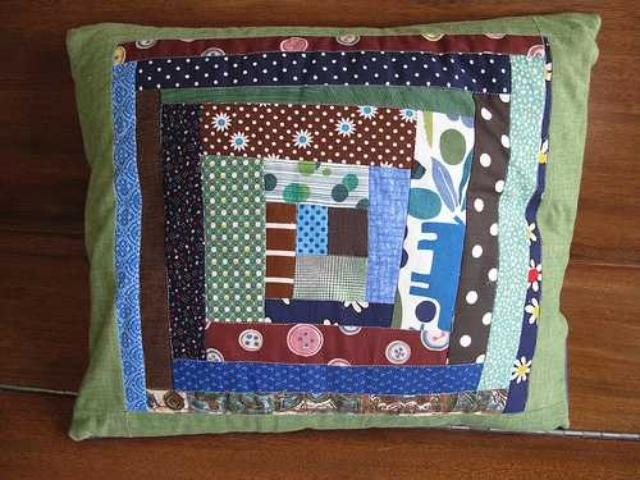pillow: (64, 12, 602, 440)
